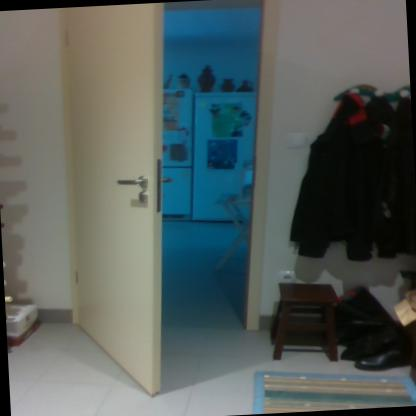semi: (55, 3, 292, 376)
